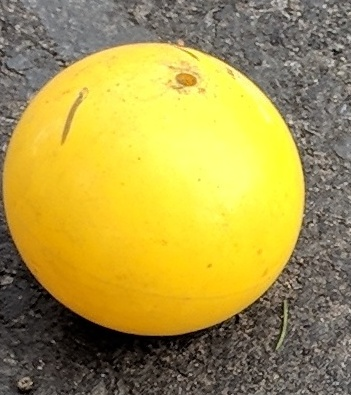ball: (3, 43, 308, 337)
